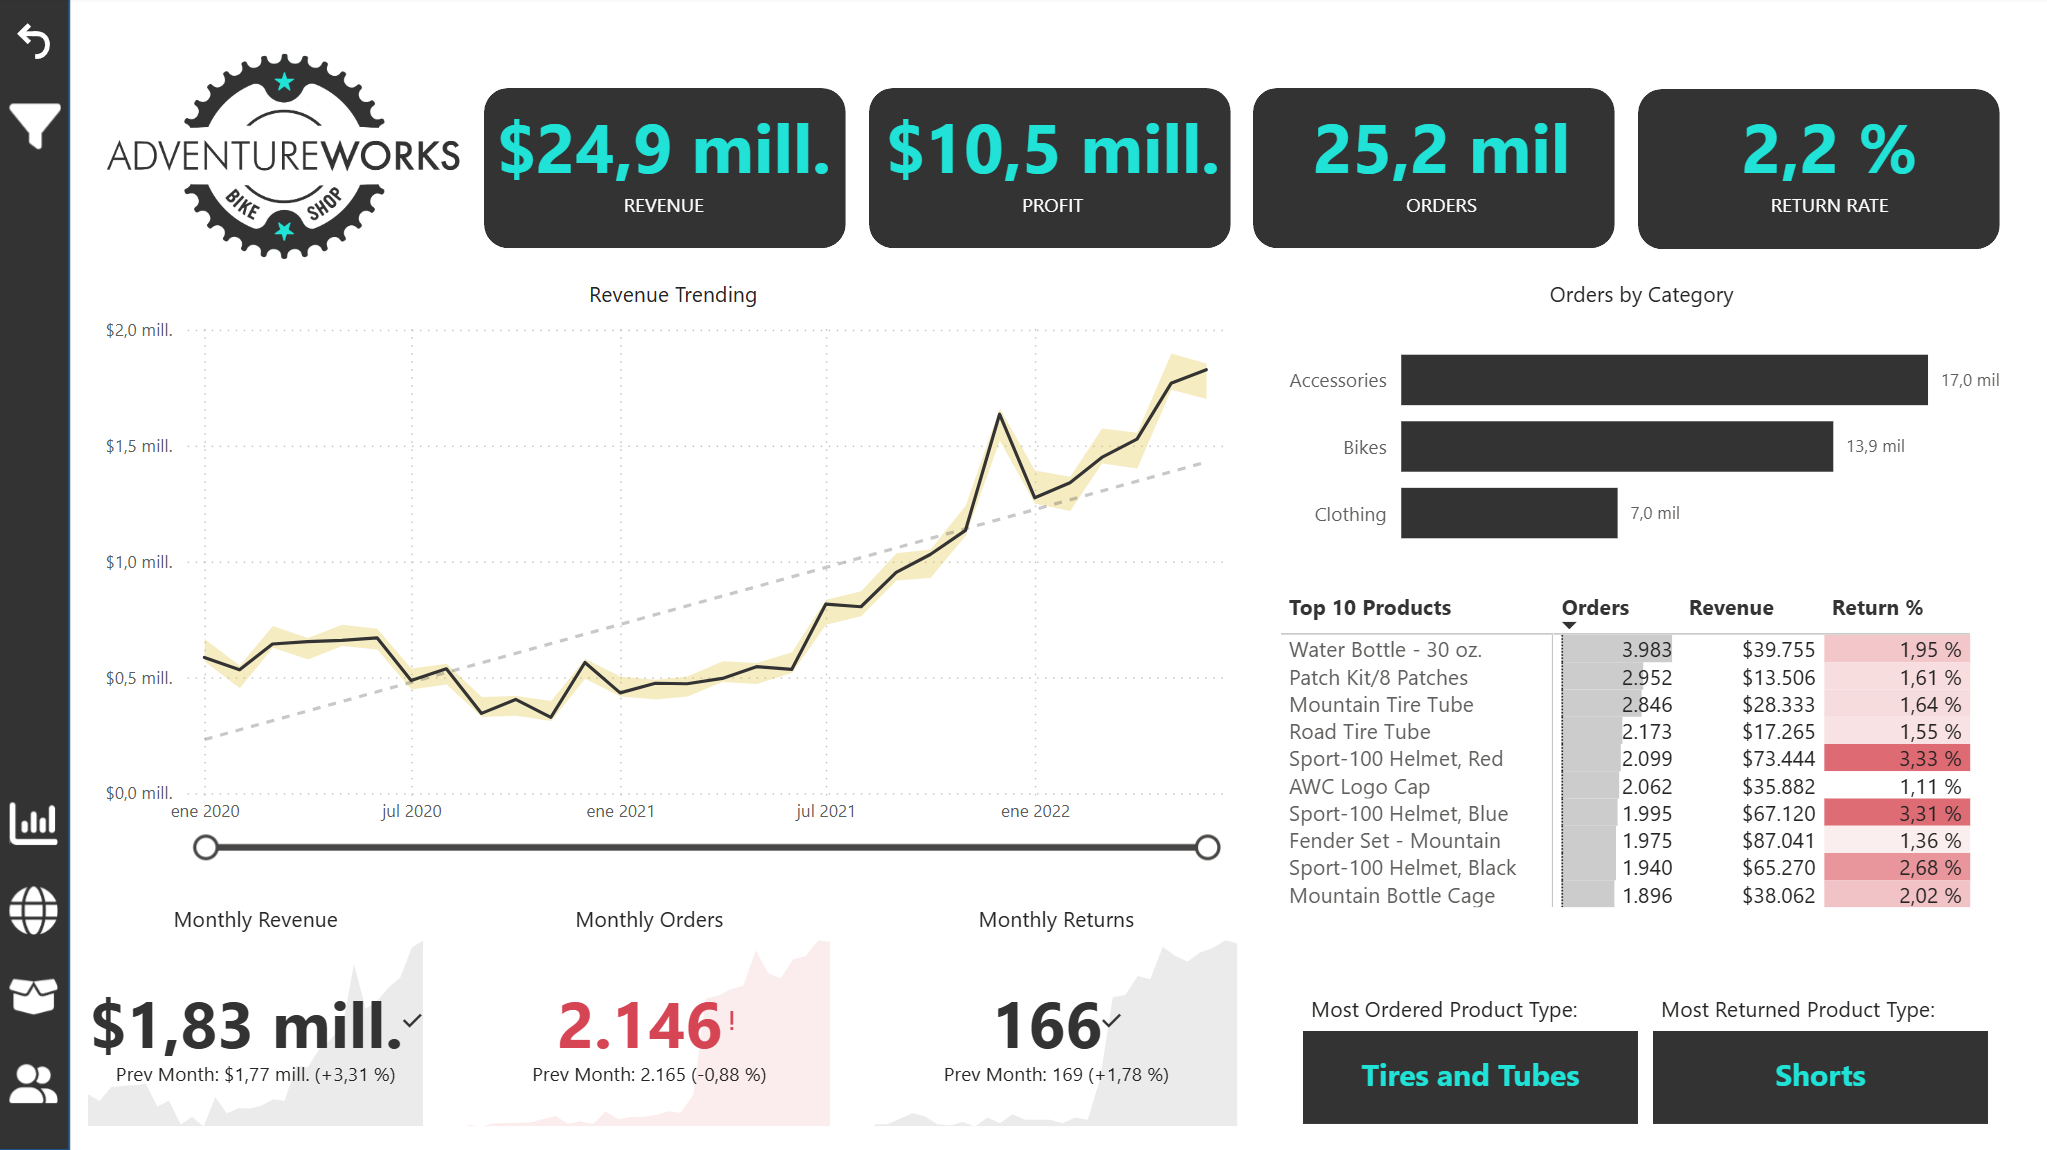

The page's visual inventory and layout, read from the dashboard file:
{"tool":"powerbi","page":{"name":"Exec Dashboard","canvas":[1280,720],"ordinal":0},"visuals":[{"type":"card","fields":{"Values":["Measure Table.Total Revenue"]},"box":[278.3,17.6,274.2,166.2],"z":0,"group":"g2"},{"type":"image","title":"AW Logo","box":[38.6,20,280,158.6],"z":0},{"type":"group","id":"g1","title":"KPI Backgrounds","box":[303.2,56.7,945.7,100.5],"z":0,"group":"g3"},{"type":"shape","box":[303.2,56.7,225.7,100],"z":0,"group":"g1"},{"type":"actionButton","box":[3,496.6,44.6,38.3],"z":0,"group":"g4"},{"type":"shape","title":"Left Nav Background","box":[0,0,45,720],"z":1000},{"type":"group","id":"g2","title":"KPI Values","box":[278.3,17.6,1001.7,166.2],"z":1000,"group":"g3"},{"type":"card","fields":{"Values":["Measure Table.Total Profit"]},"box":[521,17.6,274.2,166.2],"z":1000,"group":"g2"},{"type":"shape","box":[543.2,56.7,225.7,100],"z":1000,"group":"g1"},{"type":"actionButton","box":[3,550.7,44.6,38.3],"z":1000,"group":"g4"},{"type":"group","id":"g3","title":"KPIs","box":[278.3,17.6,1001.7,166.2],"z":2000},{"type":"card","fields":{"Values":["Measure Table.Total Orders"]},"box":[763.7,17.6,274.2,166.2],"z":2000,"group":"g2"},{"type":"shape","box":[783.2,56.7,225.7,100],"z":2000,"group":"g1"},{"type":"actionButton","box":[3,604.8,44.6,38.3],"z":2000,"group":"g4"},{"type":"card","fields":{"Values":["Measure Table.Return Rate"]},"box":[1005.8,17.6,274.2,166.2],"z":3000,"group":"g2"},{"type":"shape","box":[1023.2,57.2,225.7,100],"z":3000,"group":"g1"},{"type":"lineChart","title":"Revenue Trending","fields":{"Y":["Measure Table.Total Revenue"],"Category":["Calendar Lookup.Inicio del mes"]},"box":[61.9,176.5,719.1,365.1],"z":3000},{"type":"actionButton","box":[3,658.8,44.6,38.3],"z":3000,"group":"g4"},{"type":"kpi","title":"Monthly Revenue","fields":{"Indicator":["Measure Table.Total Revenue"],"TrendLine":["Calendar Lookup.Inicio del mes"],"Goal":["Measure Table.Previous Month Revenue"]},"box":[51,566.6,219.3,143.2],"z":4000},{"type":"kpi","title":"Monthly Returns","fields":{"TrendLine":["Calendar Lookup.Inicio del mes"],"Indicator":["Measure Table.Total Returns"],"Goal":["Measure Table.Previous Month Returns"]},"box":[542.4,566.6,236.3,143.2],"z":5000},{"type":"kpi","title":"Monthly Orders","fields":{"TrendLine":["Calendar Lookup.Inicio del mes"],"Indicator":["Measure Table.Total Orders"],"Goal":["Measure Table.Previous Month Orders"]},"box":[288.2,566.6,236.3,143.2],"z":6000},{"type":"clusteredBarChart","title":"Orders by Category","fields":{"Category":["Product Categories Lookup.CategoryName"],"Y":["Measure Table.Total Orders"]},"box":[795.3,176.5,459.9,184.5],"z":7000},{"type":"pivotTable","fields":{"Rows":["Product Lookup.ProductName"],"Values":["Measure Table.Total Orders","Measure Table.Total Revenue","Measure Table.Return Rate"]},"box":[795.2,367.2,484.8,224.2],"z":8000},{"type":"card","fields":{"Values":["Min(Product Subcategories Lookup.SubcategoryName)"]},"box":[814.5,645.1,208.9,57.8],"z":9000},{"type":"textbox","box":[814.5,617.7,184.6,27.4],"z":10000},{"type":"card","fields":{"Values":["Min(Product Subcategories Lookup.SubcategoryName)"]},"box":[1032.5,645.1,208.9,57.8],"z":11000},{"type":"textbox","box":[1032.5,617.7,184.6,27.4],"z":12000},{"type":"actionButton","box":[7.1,8.9,31.2,36.5],"z":13000},{"type":"group","id":"g4","title":"Navigation Buttons","box":[3,496.6,44.6,200.6],"z":14000},{"type":"actionButton","box":[3,60.6,46.4,40.4],"z":15000}]}

Visuals, with their boxes on the page's 1280x720 design canvas (x1, y1, x2, y2). These are canvas units, not pixel positions in the 2047x1150 screenshot, which may show the page scaled, cropped or inside an application window:
card - Measure Table.Total Revenue: 278/18/552/184
"AW Logo" image: 39/20/319/179
"KPI Backgrounds" group: 303/57/1249/157
shape: 303/57/529/157
actionButton: 3/497/48/535
"Left Nav Background" shape: 0/0/45/720
"KPI Values" group: 278/18/1280/184
card - Measure Table.Total Profit: 521/18/795/184
shape: 543/57/769/157
actionButton: 3/551/48/589
"KPIs" group: 278/18/1280/184
card - Measure Table.Total Orders: 764/18/1038/184
shape: 783/57/1009/157
actionButton: 3/605/48/643
card - Measure Table.Return Rate: 1006/18/1280/184
shape: 1023/57/1249/157
"Revenue Trending" lineChart: 62/176/781/542
actionButton: 3/659/48/697
"Monthly Revenue" kpi: 51/567/270/710
"Monthly Returns" kpi: 542/567/779/710
"Monthly Orders" kpi: 288/567/524/710
"Orders by Category" clusteredBarChart: 795/176/1255/361
pivotTable - Product Lookup.ProductName x Measure Table.Total Orders: 795/367/1280/591
card - Min(Product Subcategories Lookup.SubcategoryName): 814/645/1023/703
textbox: 814/618/999/645
card - Min(Product Subcategories Lookup.SubcategoryName): 1032/645/1241/703
textbox: 1032/618/1217/645
actionButton: 7/9/38/45
"Navigation Buttons" group: 3/497/48/697
actionButton: 3/61/49/101
